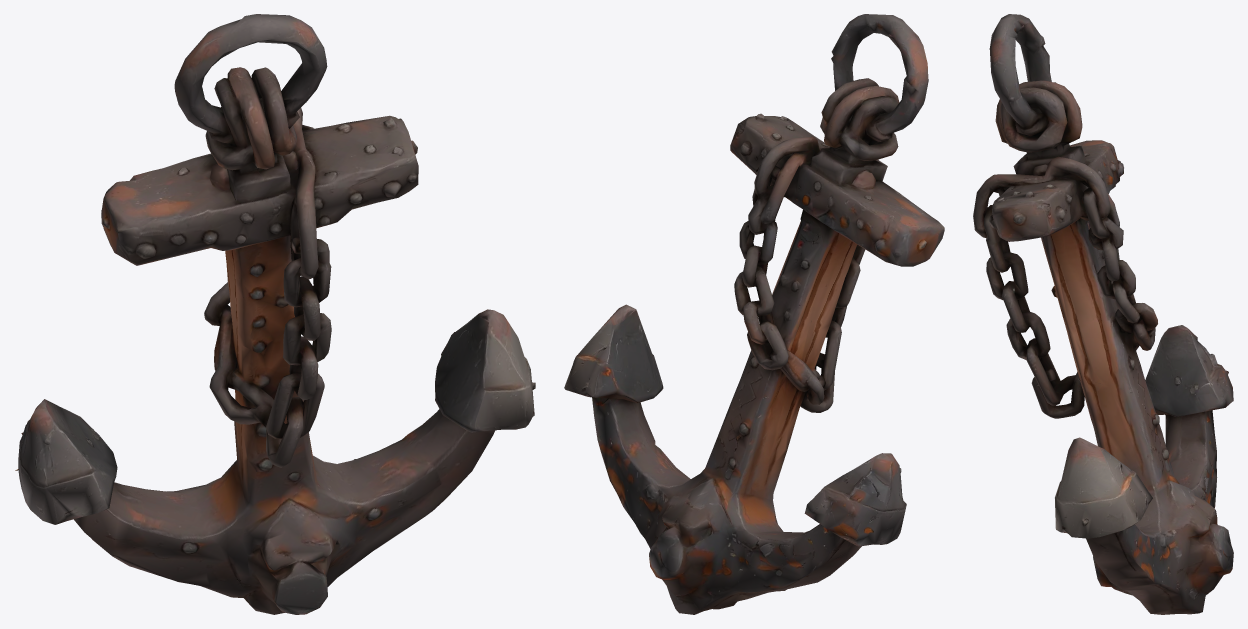
The model's file is prop-anchor.glb.
The picture shows the model from 3 angles, left to right: view 1: azimuth 30°, elevation 25°; view 2: azimuth 150°, elevation 25°; view 3: azimuth 270°, elevation 25°; orthographic projection. The views are drawn at different scales.
Visible parts, largest first — view 1: tripo_node_e7c336cf-bf57-44c3-8c75-8f074c41d688; view 2: tripo_node_e7c336cf-bf57-44c3-8c75-8f074c41d688; view 3: tripo_node_e7c336cf-bf57-44c3-8c75-8f074c41d688.
Part boxes in pixels (bbox=[...]): tripo_node_e7c336cf-bf57-44c3-8c75-8f074c41d688: bbox=[15, 14, 535, 614]; tripo_node_e7c336cf-bf57-44c3-8c75-8f074c41d688: bbox=[564, 14, 944, 614]; tripo_node_e7c336cf-bf57-44c3-8c75-8f074c41d688: bbox=[973, 14, 1233, 614].
Size of the model in its own units: 0.6804 by 0.9995 by 0.4337.
1 material, 1 textured.
